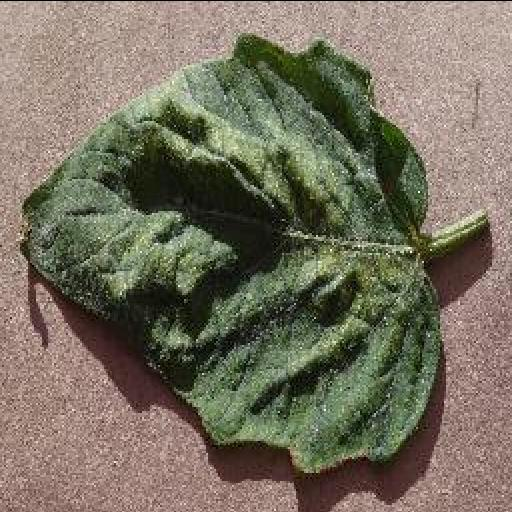disease_tomato: (18, 32, 444, 472)
